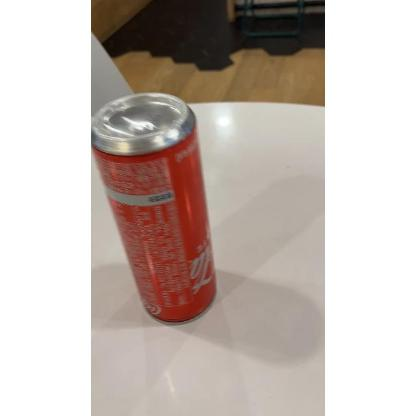Can: (92, 89, 222, 330)
